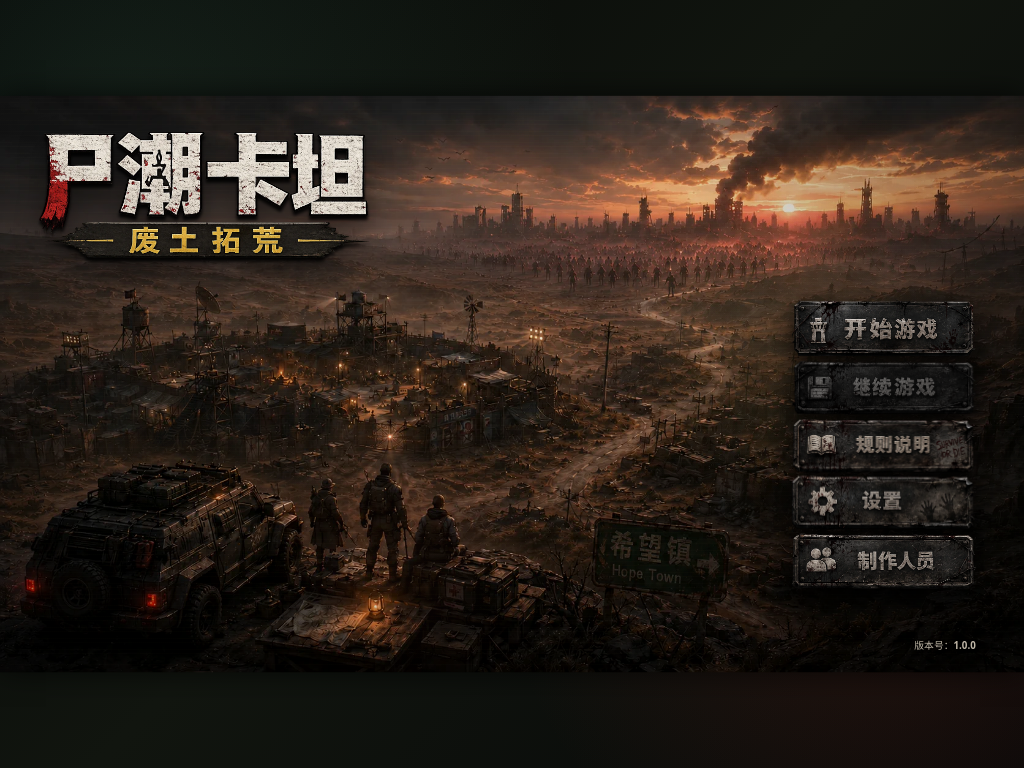
StartScreen › renders rules as a handbook layout with section navigation and scrollable content
The width and height of the screenshot is (1024, 768).
Click the button named "规则说明". click: (884, 446)
box: top-left (792, 419), bottom-right (976, 473)
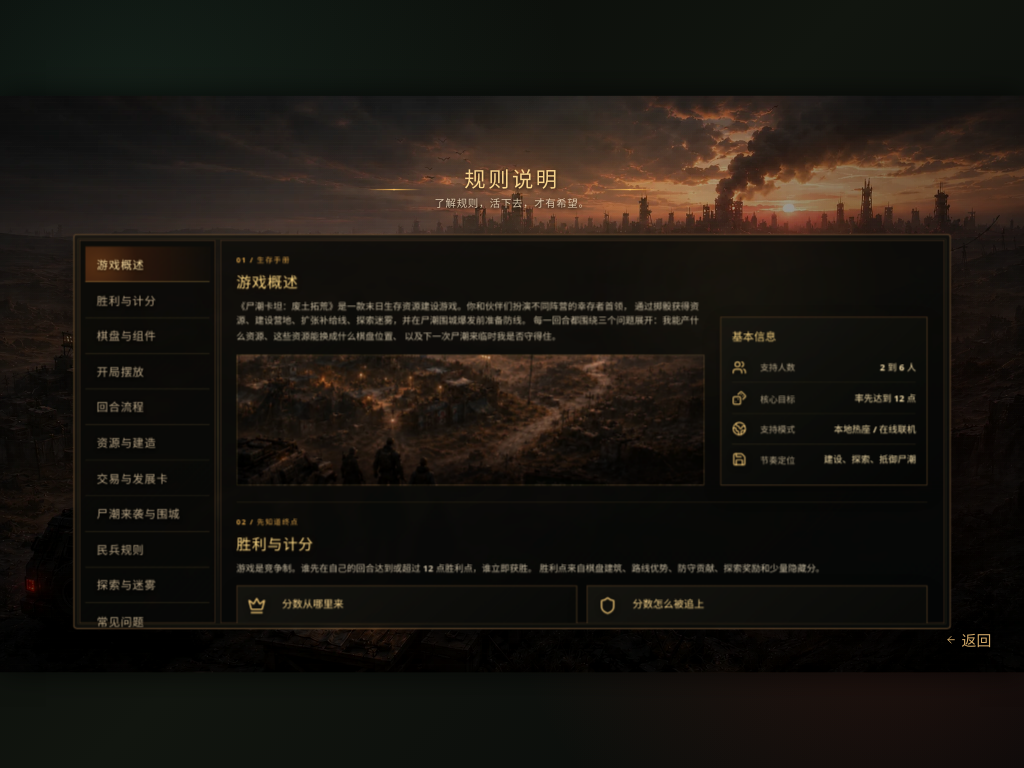
Now the navigation bar named "规则章节目录" is shown, box top-left (80, 240), bottom-right (215, 623)
Now the heading "游戏概述" is shown, box top-left (237, 272), bottom-right (299, 292)
Now the link "民兵规则" is shown, box top-left (85, 532), bottom-right (209, 567)
